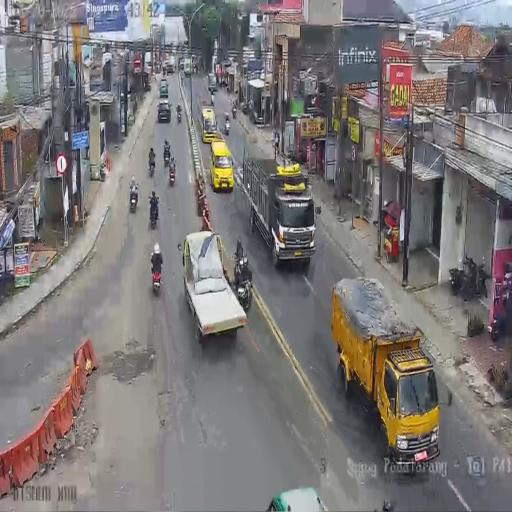3: (330, 276, 437, 465), (200, 105, 218, 143), (208, 71, 218, 94), (144, 51, 151, 73), (184, 57, 192, 76)
car: (210, 138, 234, 192), (157, 100, 171, 122), (164, 56, 174, 75), (159, 78, 168, 97), (179, 58, 184, 70)
truck: (235, 265, 253, 312), (490, 304, 508, 342), (151, 257, 162, 293), (149, 199, 159, 228), (128, 184, 138, 213), (163, 144, 171, 167), (148, 154, 155, 176), (169, 162, 175, 186), (241, 99, 249, 114), (176, 106, 182, 123), (224, 119, 230, 135), (224, 77, 230, 92), (232, 106, 237, 120), (180, 71, 184, 84)
